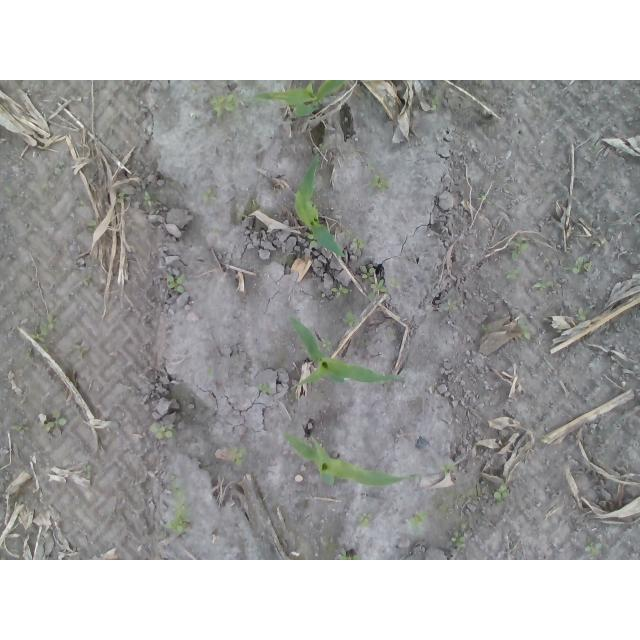Maize: (287, 314, 404, 386), (280, 431, 418, 488), (291, 149, 350, 259), (244, 80, 347, 118)
Weeds: (161, 479, 191, 535), (361, 264, 387, 300), (207, 95, 238, 122), (37, 409, 67, 433), (32, 317, 56, 343), (562, 255, 591, 273), (150, 421, 175, 441), (511, 234, 530, 258), (368, 172, 389, 192), (167, 271, 186, 293), (408, 510, 428, 530), (494, 484, 511, 504), (517, 318, 531, 342), (448, 529, 465, 548), (341, 310, 361, 326), (228, 446, 244, 466), (332, 283, 353, 297), (200, 187, 217, 204), (585, 541, 602, 555), (338, 550, 361, 560), (254, 383, 272, 395), (53, 160, 65, 177), (532, 280, 552, 289), (352, 238, 368, 249), (431, 94, 442, 110), (143, 190, 153, 207), (574, 306, 586, 320), (321, 337, 333, 351), (358, 511, 368, 527), (84, 464, 93, 481), (307, 233, 317, 248), (87, 219, 97, 234), (504, 270, 520, 279), (447, 298, 459, 310), (390, 276, 401, 289), (16, 424, 31, 433), (440, 464, 454, 473), (476, 192, 488, 201), (119, 191, 130, 200), (544, 435, 553, 445), (248, 199, 257, 209), (319, 143, 327, 152), (207, 367, 214, 377), (240, 213, 249, 220)
